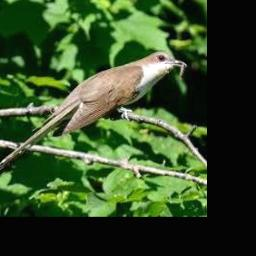Cuckoo: (0, 50, 186, 171)
